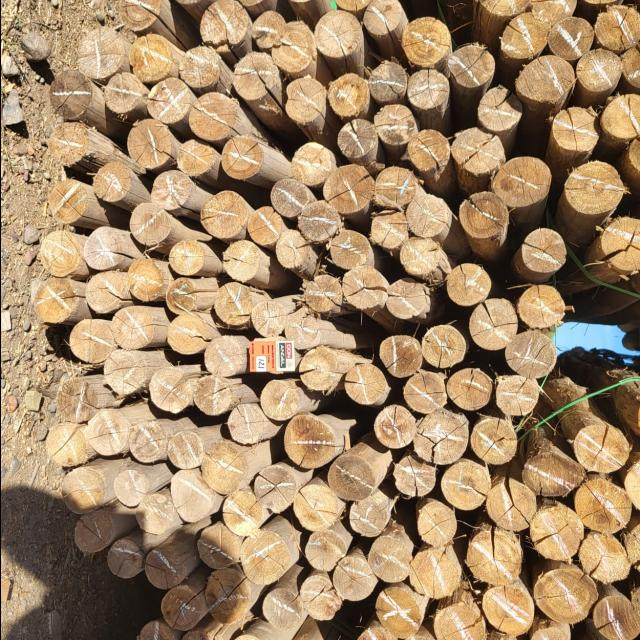package: (40, 0, 560, 630), (362, 387, 640, 640), (437, 0, 640, 302)
